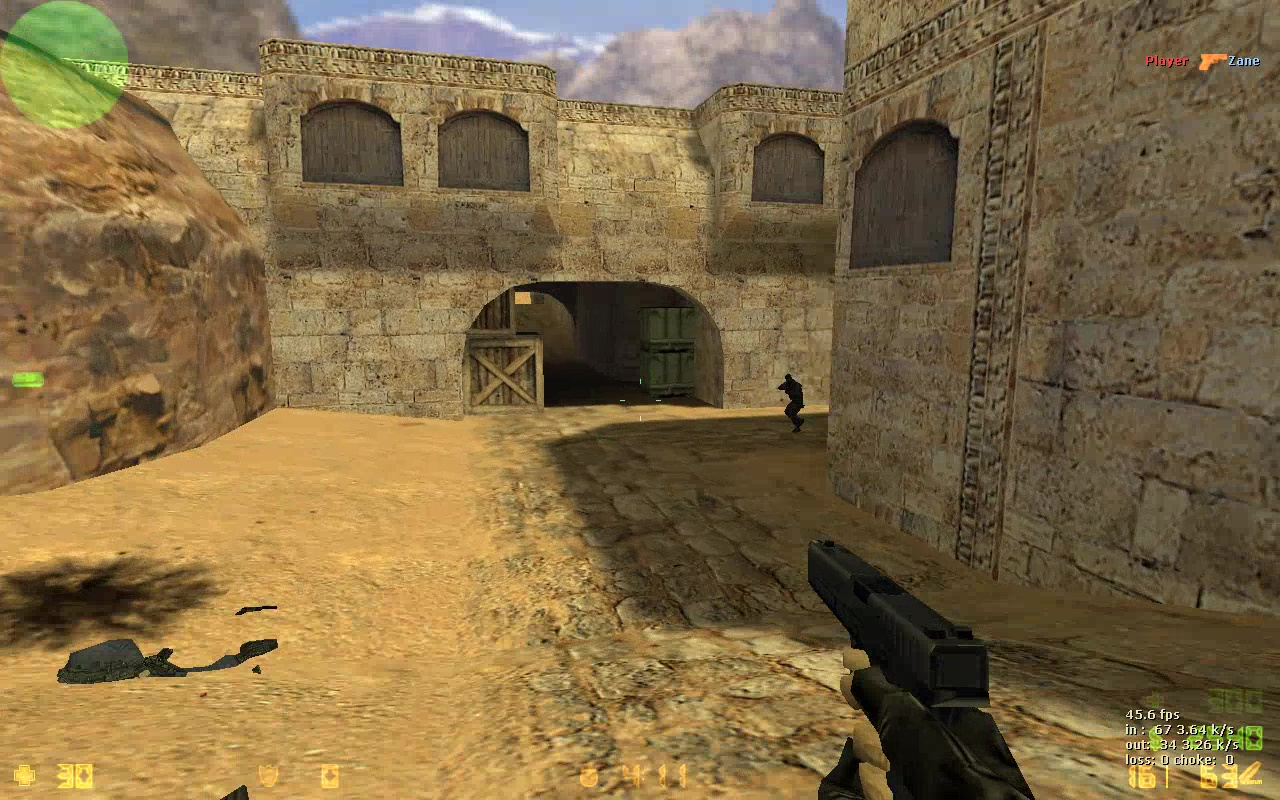ct: (777, 375, 806, 432)
